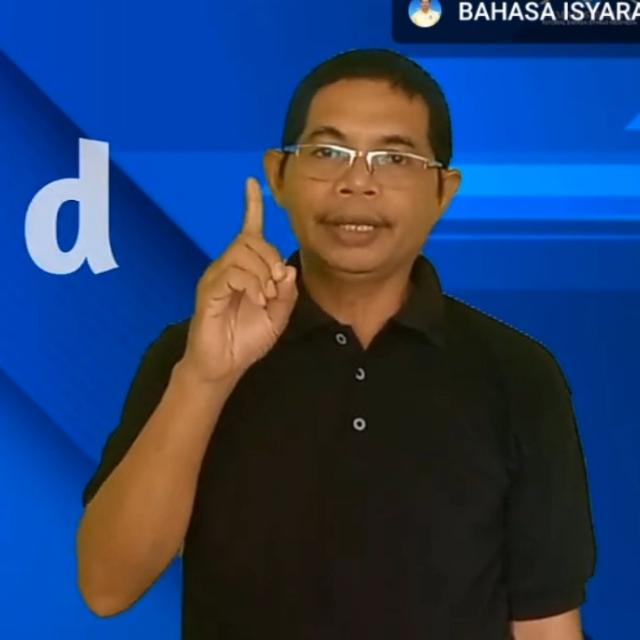D: (180, 174, 300, 378)
